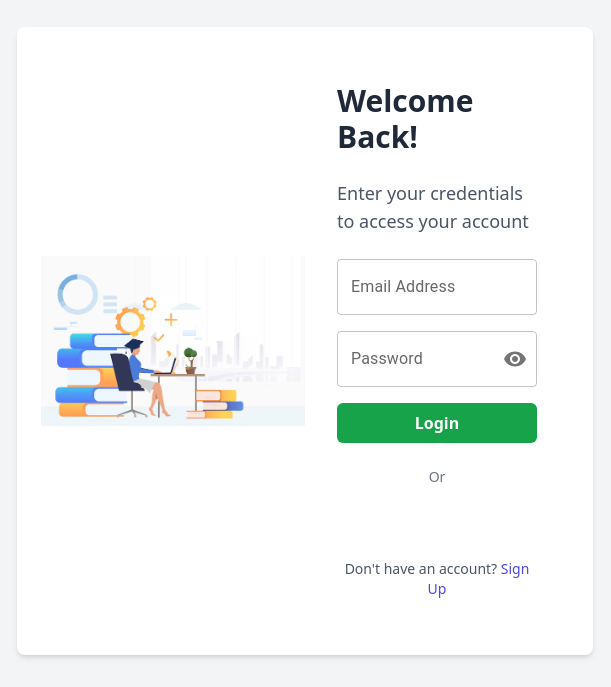
Test case: LoginForm Component › Form Validation › shows validation error for empty password
Type "test@example.com" into the field labelled "Email Address" at (437, 287), box [337, 259, 537, 315]
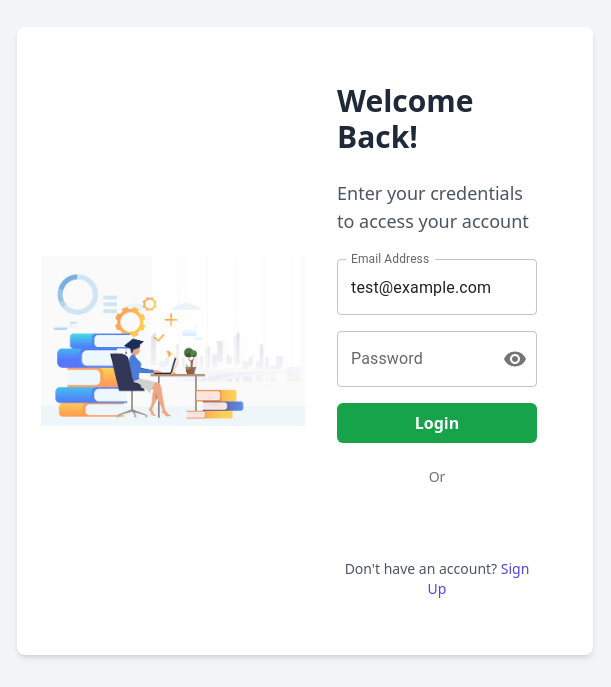
Click the button "Login" at (437, 423), box [337, 403, 537, 443]
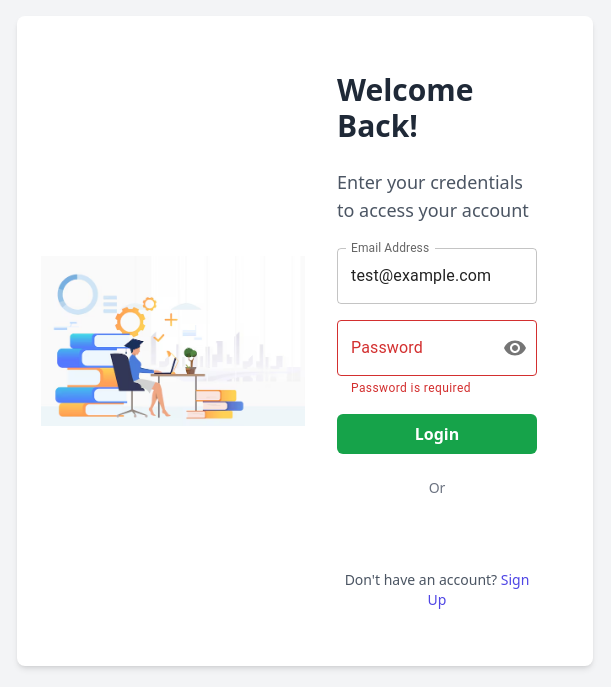
Expected: the text "Password is required" is shown, [351, 380, 471, 394]
